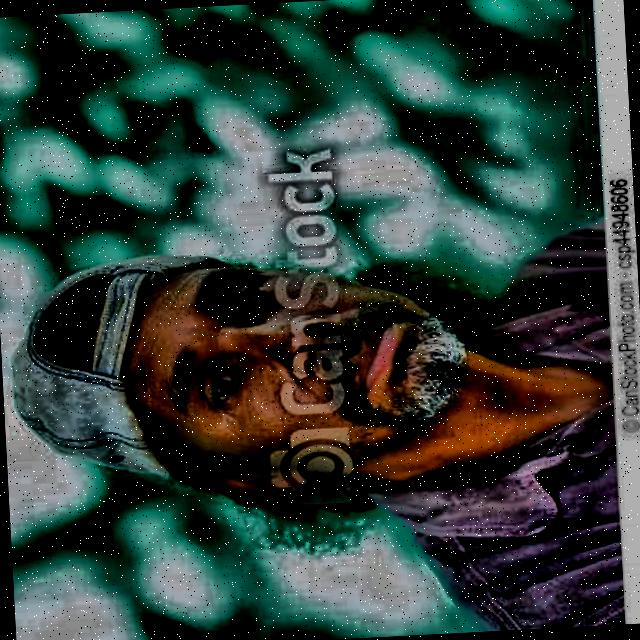neutral: (18, 230, 470, 536)
